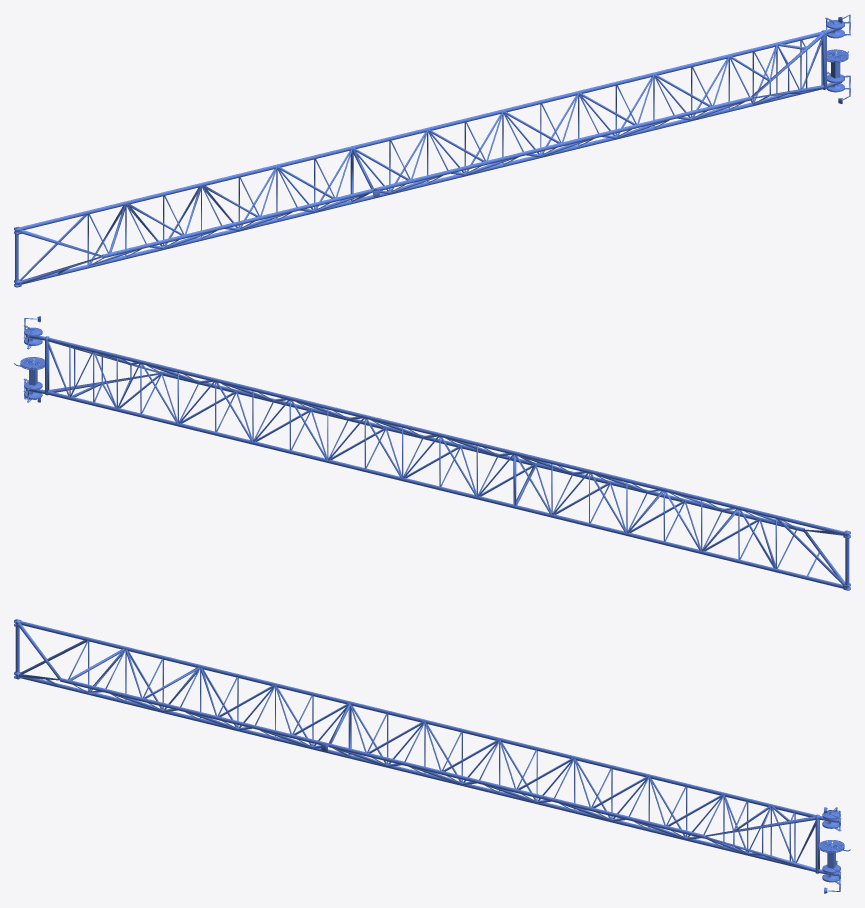
Rendered from Boom.glb.
3 renders of one model, top to bottom at view 1: azimuth 30°, elevation 25°; view 2: azimuth 150°, elevation 25°; view 3: azimuth 330°, elevation 25°, orthographic.
Visible parts, largest first — view 1: Boom; view 2: Boom; view 3: Boom.
Part boxes in pixels (<box>): Boom: <box>14,14,850,287</box>; Boom: <box>14,316,850,590</box>; Boom: <box>14,619,850,893</box>.
Size of the model in its own units: 52.19 by 5.1 by 3.71.
